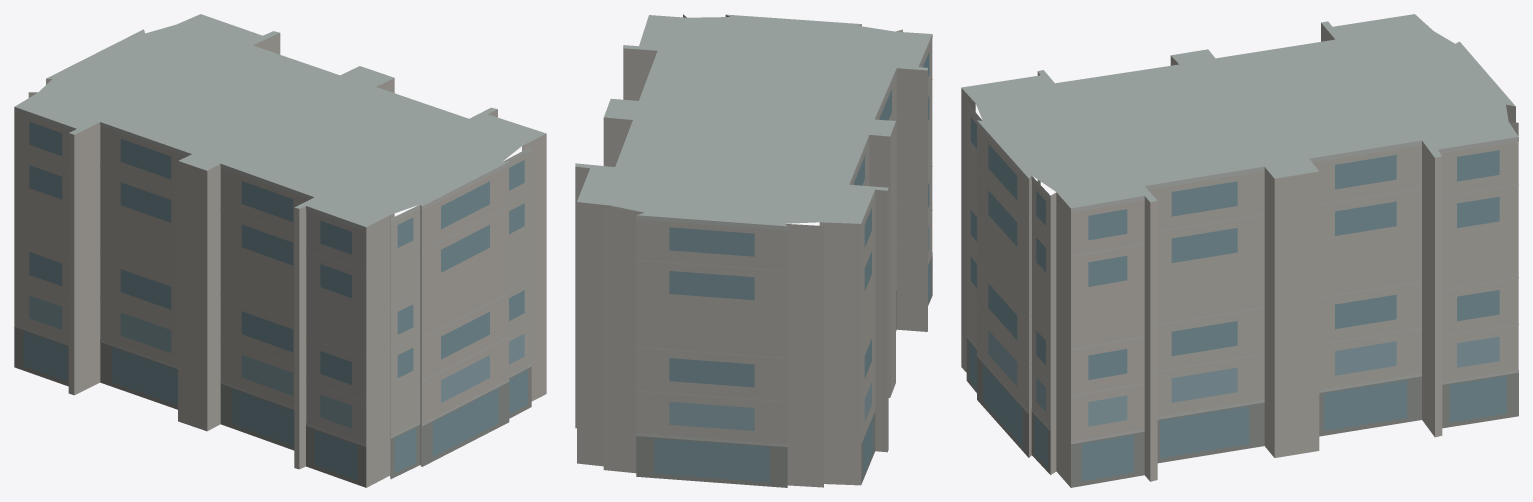
Rendered from survey-upis-32862017.glb.
The picture shows the model from 3 angles, left to right: view 1: azimuth 30°, elevation 25°; view 2: azimuth 150°, elevation 25°; view 3: azimuth 270°, elevation 25°; orthographic projection. The views are drawn at different scales.
Visible parts, largest first — view 1: survey-upis-32862017.tmp; view 2: survey-upis-32862017.tmp; view 3: survey-upis-32862017.tmp.
Boxes of the visible parts, bbox=[...] form: survey-upis-32862017.tmp: bbox=[14, 14, 546, 487]; survey-upis-32862017.tmp: bbox=[575, 14, 932, 487]; survey-upis-32862017.tmp: bbox=[961, 14, 1518, 487].
Size of the model in its own units: 22.58 by 15.11 by 27.34.
